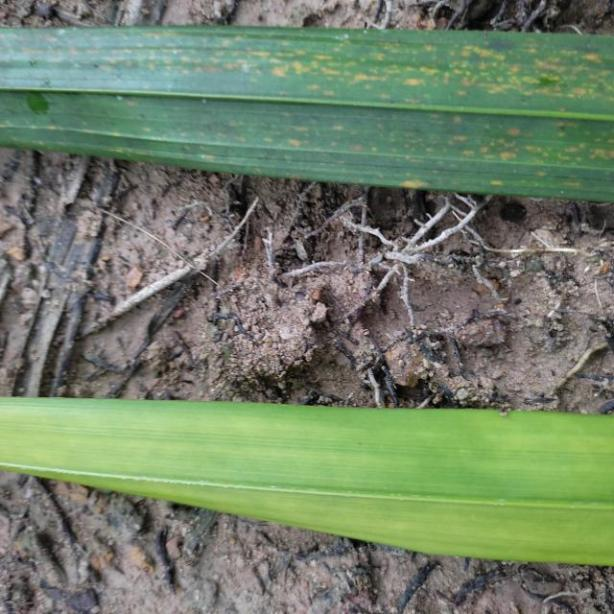nitrogen: (0, 390, 614, 571)
